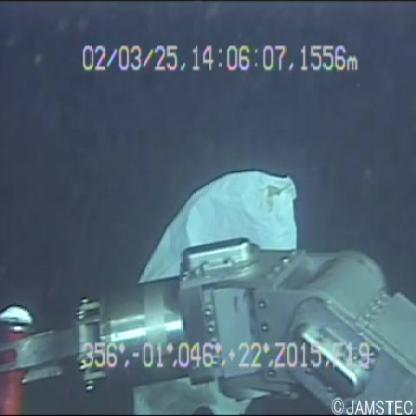Rov: (3, 246, 411, 416)
Rác: (119, 145, 306, 416)
